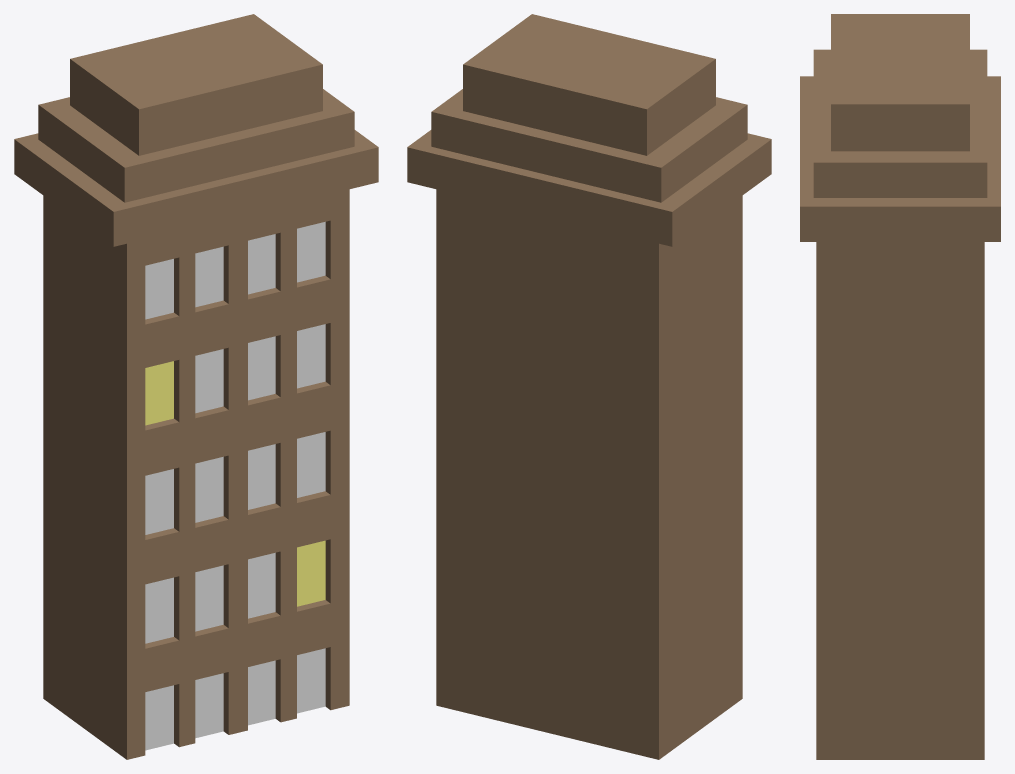
3 views of the same model, side by side, from view 1: azimuth 30°, elevation 25°; view 2: azimuth 150°, elevation 25°; view 3: azimuth 270°, elevation 25° (orthographic).
Parts seen in each view (by area): view 1: _b6; view 2: _b6; view 3: _b6.
Boxes of the visible parts, left/top/right/bottom form: _b6: left=14, top=14, right=378, bottom=759; _b6: left=407, top=14, right=771, bottom=759; _b6: left=800, top=14, right=1000, bottom=759.
Size of the model in its own units: 2.38 by 5.5 by 1.55.
1 material, 1 textured.
